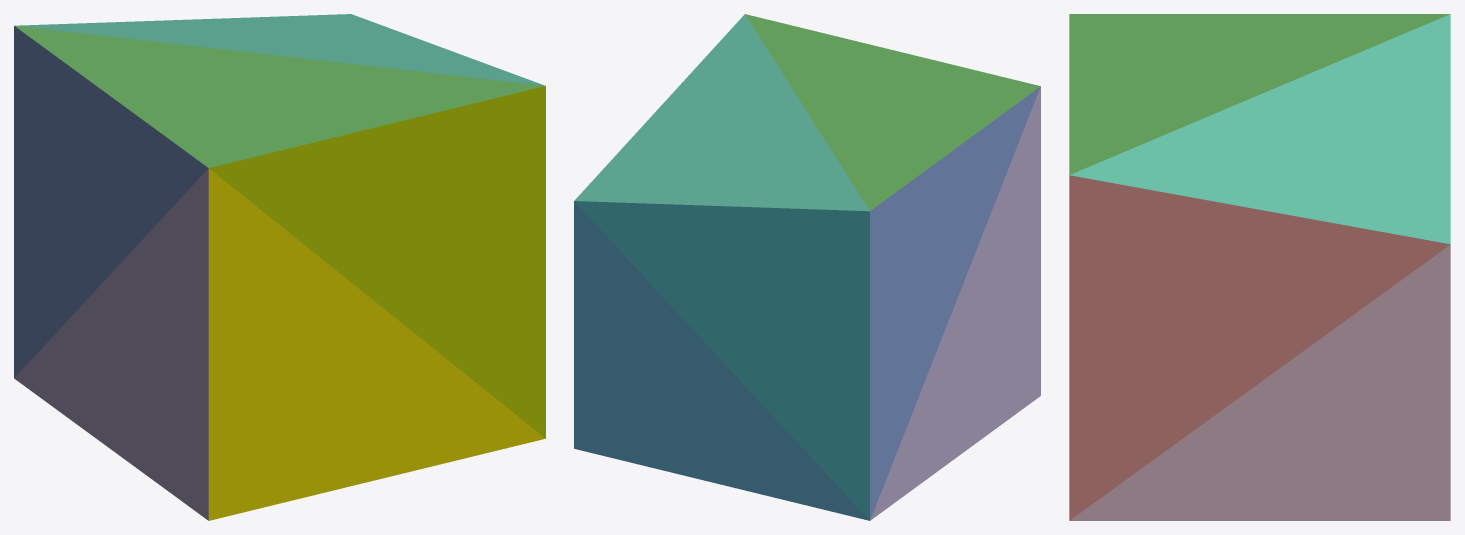
The model's file is cube_dropped.gltf.
3 renders of one model, left to right at view 1: azimuth 30°, elevation 25°; view 2: azimuth 150°, elevation 25°; view 3: azimuth 270°, elevation 25°, orthographic. The views are drawn at different scales.
Visible parts, largest first — view 1: Cube.002; view 2: Cube.002; view 3: Cube.002.
Boxes of the visible parts, x1,y1,x2,y2 form: Cube.002: (14, 14, 545, 520); Cube.002: (574, 14, 1040, 520); Cube.002: (1069, 14, 1450, 520).
Bounding box in the file's own units: 1 × 1 × 1.
